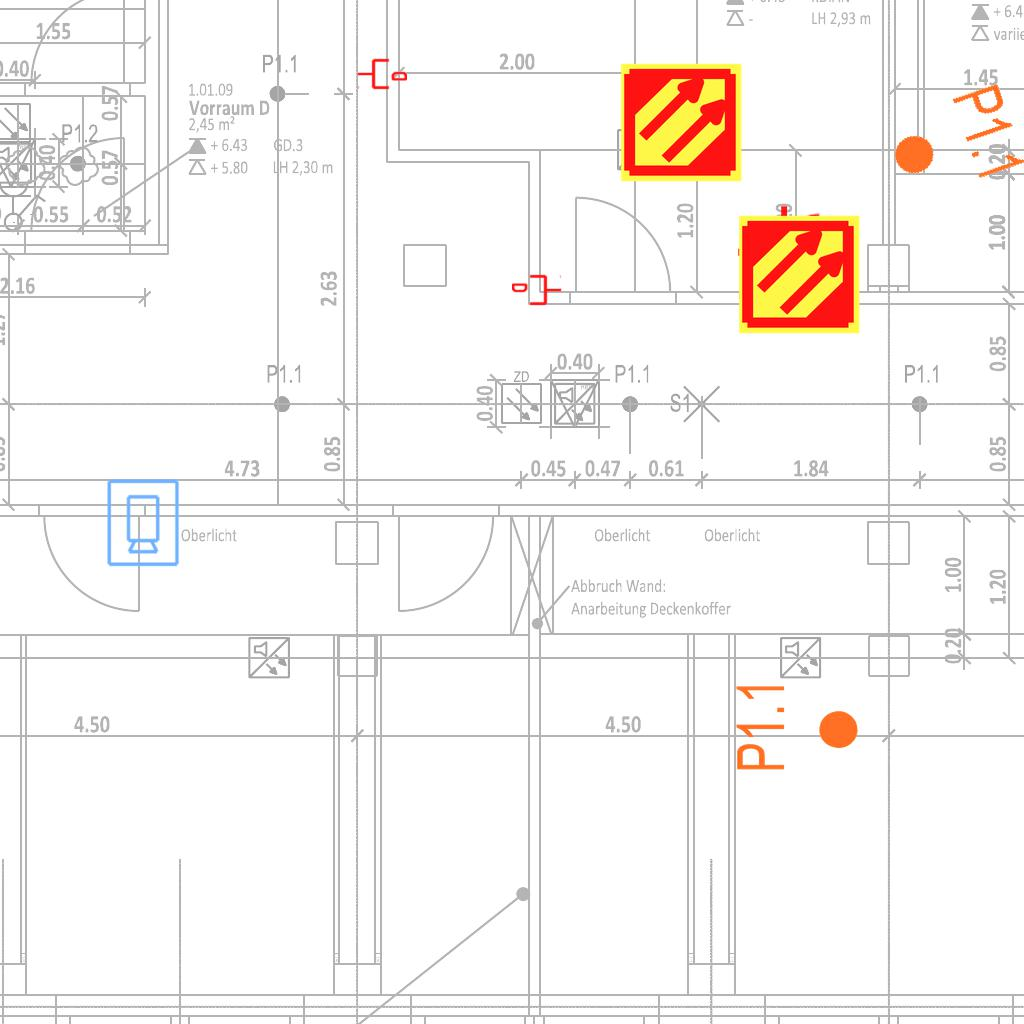ASR_Ansaugrauchmelder: (619, 60, 744, 185), (737, 212, 862, 337)
Datenanschluss_einfach: (512, 273, 562, 307), (357, 57, 407, 91)
Downlight_LED_Einbauleuchten_Flur: (878, 79, 1024, 209), (733, 680, 861, 773)
KFO_Kamera_mit_Festobjektiv: (104, 477, 181, 568)
Schukosteckdose_einfach: (736, 204, 823, 304)
